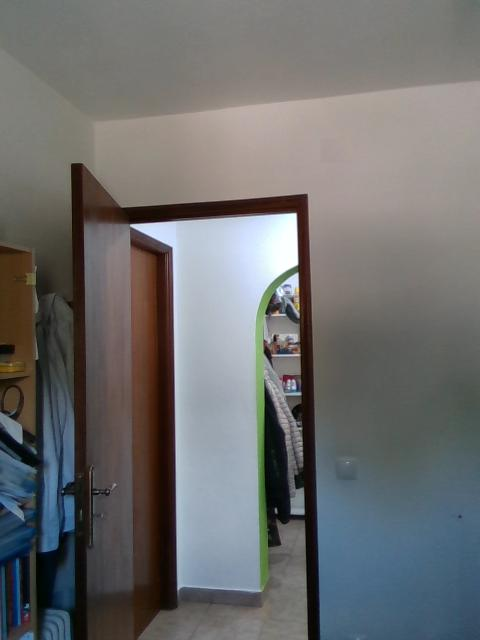open_door: (90, 190, 325, 638)
